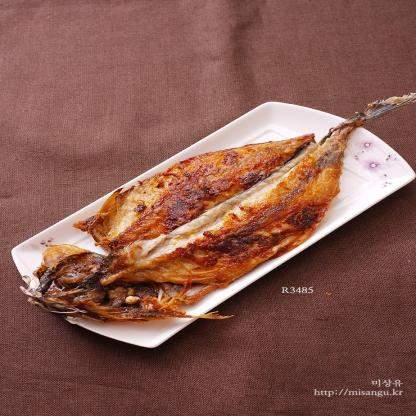Peixe: (12, 89, 416, 332)
